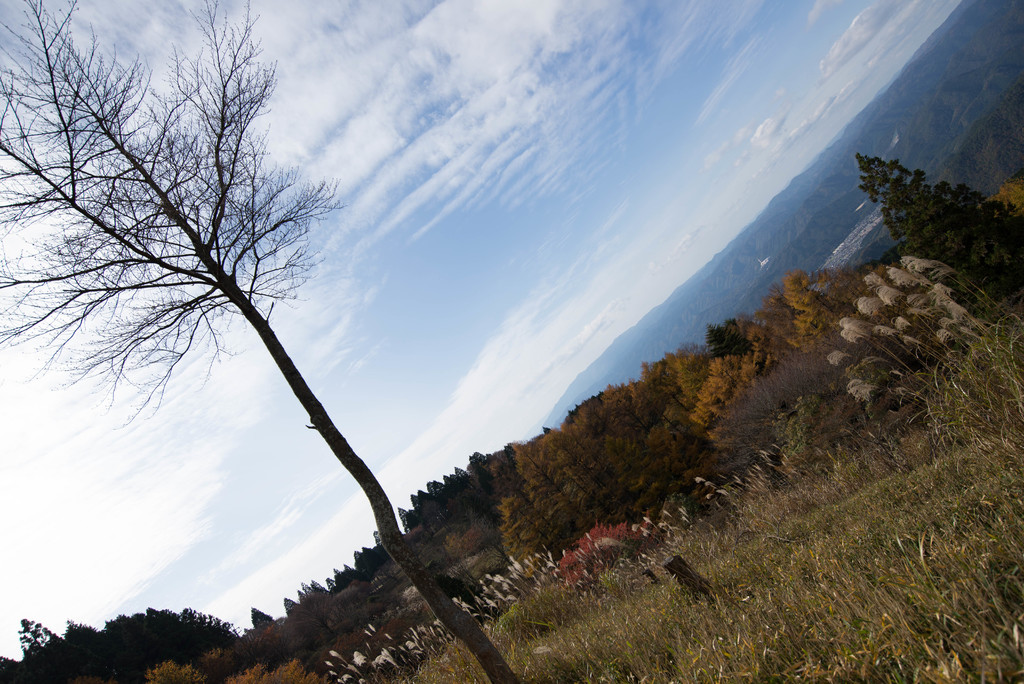Tree: (37, 10, 480, 664), (466, 264, 872, 579), (852, 158, 1020, 304), (0, 602, 235, 683)
